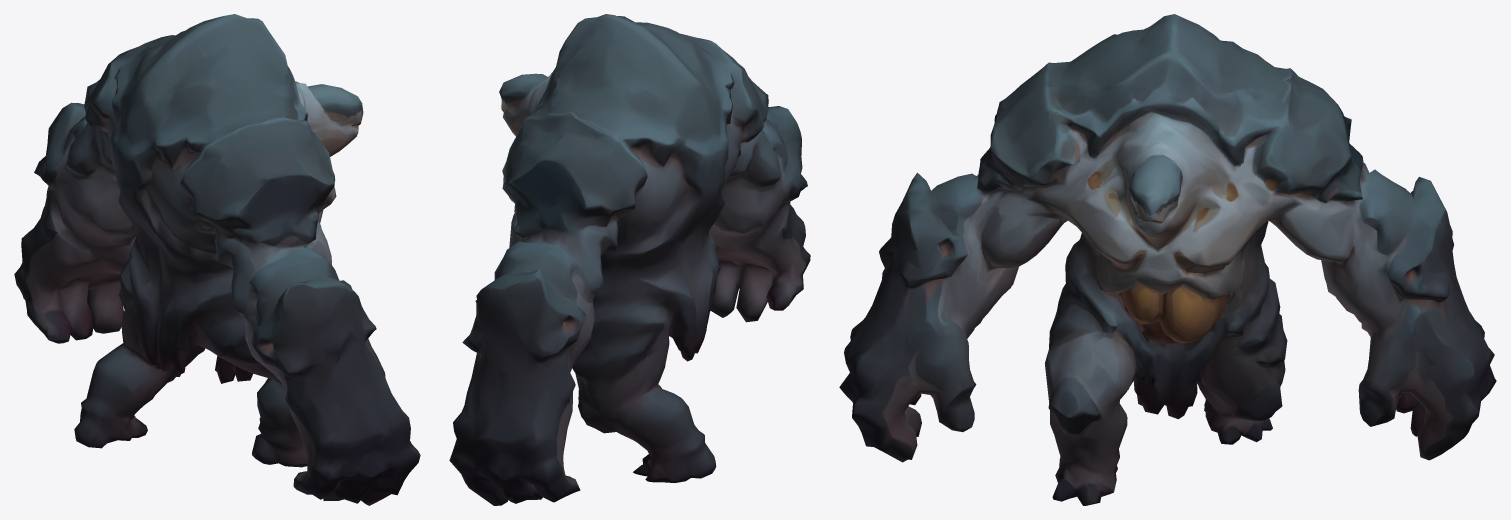
Rendered from agir.glb.
3 renders of one model, left to right at view 1: azimuth 30°, elevation 25°; view 2: azimuth 150°, elevation 25°; view 3: azimuth 270°, elevation 25°, orthographic. The views are drawn at different scales.
Parts seen in each view (by area): view 1: tripo_node_f87ebc22-bc61-4aef-b5f0-33e586fa6a38; view 2: tripo_node_f87ebc22-bc61-4aef-b5f0-33e586fa6a38; view 3: tripo_node_f87ebc22-bc61-4aef-b5f0-33e586fa6a38.
Part boxes in pixels (x1=…): tripo_node_f87ebc22-bc61-4aef-b5f0-33e586fa6a38: x1=14, y1=14, x2=420, y2=505; tripo_node_f87ebc22-bc61-4aef-b5f0-33e586fa6a38: x1=449, y1=14, x2=810, y2=505; tripo_node_f87ebc22-bc61-4aef-b5f0-33e586fa6a38: x1=839, y1=14, x2=1496, y2=505.
Size of the model in its own units: 0.4708 by 0.7621 by 1.
Materials: 1 (1 with a texture image).
